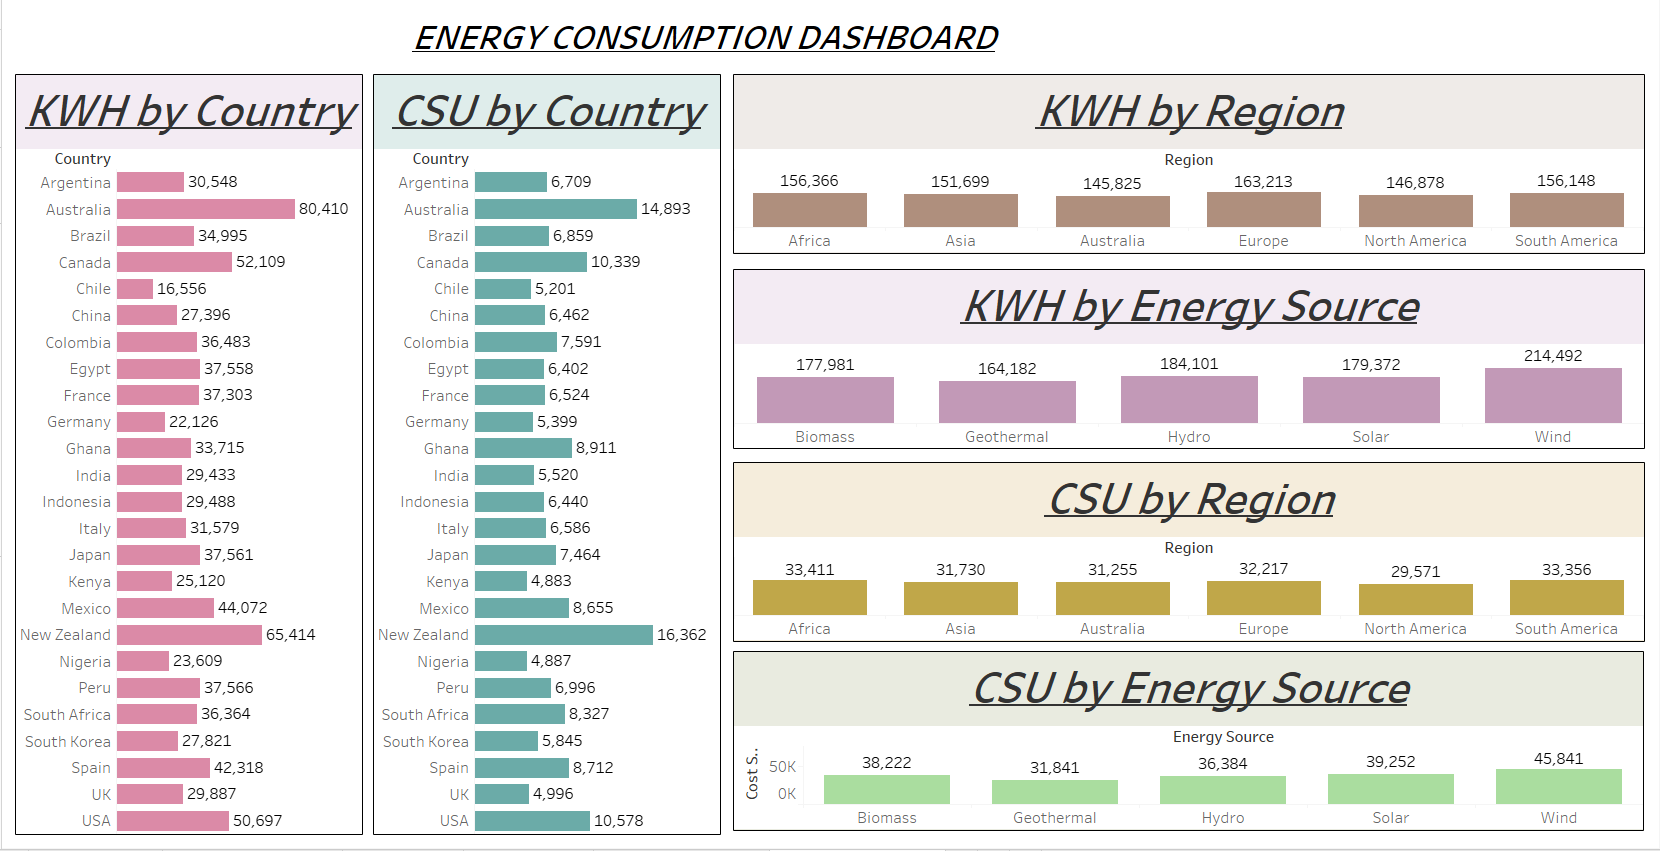

The page's visual inventory and layout, read from the dashboard file:
{"tool":"tableau","page":{"name":"Tableau Dashboard ","canvas":[1000,1000],"units":"permille","ordinal":0},"visuals":[{"type":"text","box":[222.1,16.4,406.8,56.4]},{"type":"worksheet","title":"KWH by Country","mark":"Automatic","rows":["COUNTRY"],"cols":["MONTHLY_USAGE_KWH"],"box":[7.9,90.5,210,894.2]},{"type":"worksheet","title":"CSU by Country","mark":"Automatic","rows":["COUNTRY"],"cols":["COST_SAVINGS_USD"],"box":[223.9,90.5,210,894.2]},{"type":"worksheet","title":"KWH by Region","mark":"Automatic","rows":["MONTHLY_USAGE_KWH"],"cols":["REGION"],"box":[441.2,90.5,550.4,211.5]},{"type":"worksheet","title":"KWH by Energy Source","mark":"Automatic","rows":["MONTHLY_USAGE_KWH"],"cols":["ENERGY_SOURCE"],"box":[441.2,319.6,550.4,211.5]},{"type":"worksheet","title":"CSU by Region","mark":"Automatic","rows":["COST_SAVINGS_USD"],"cols":["REGION"],"box":[441.2,546.4,550.4,211.5]},{"type":"worksheet","title":"CSU by Energy Source","mark":"Automatic","rows":["COST_SAVINGS_USD"],"cols":["ENERGY_SOURCE"],"box":[441.2,768.5,549.8,211.5]}]}

Visuals, with their boxes on the dashboard's canvas, which has no fixed pixel size, in thousandths of its width and height (x1, y1, x2, y2). These are canvas units, not pixel positions in the 1660x851 screenshot, which may show the page scaled, cropped or inside an application window:
text: left=222, top=16, right=629, bottom=73
"KWH by Country" worksheet: left=8, top=90, right=218, bottom=985
"CSU by Country" worksheet: left=224, top=90, right=434, bottom=985
"KWH by Region" worksheet: left=441, top=90, right=992, bottom=302
"KWH by Energy Source" worksheet: left=441, top=320, right=992, bottom=531
"CSU by Region" worksheet: left=441, top=546, right=992, bottom=758
"CSU by Energy Source" worksheet: left=441, top=768, right=991, bottom=980
